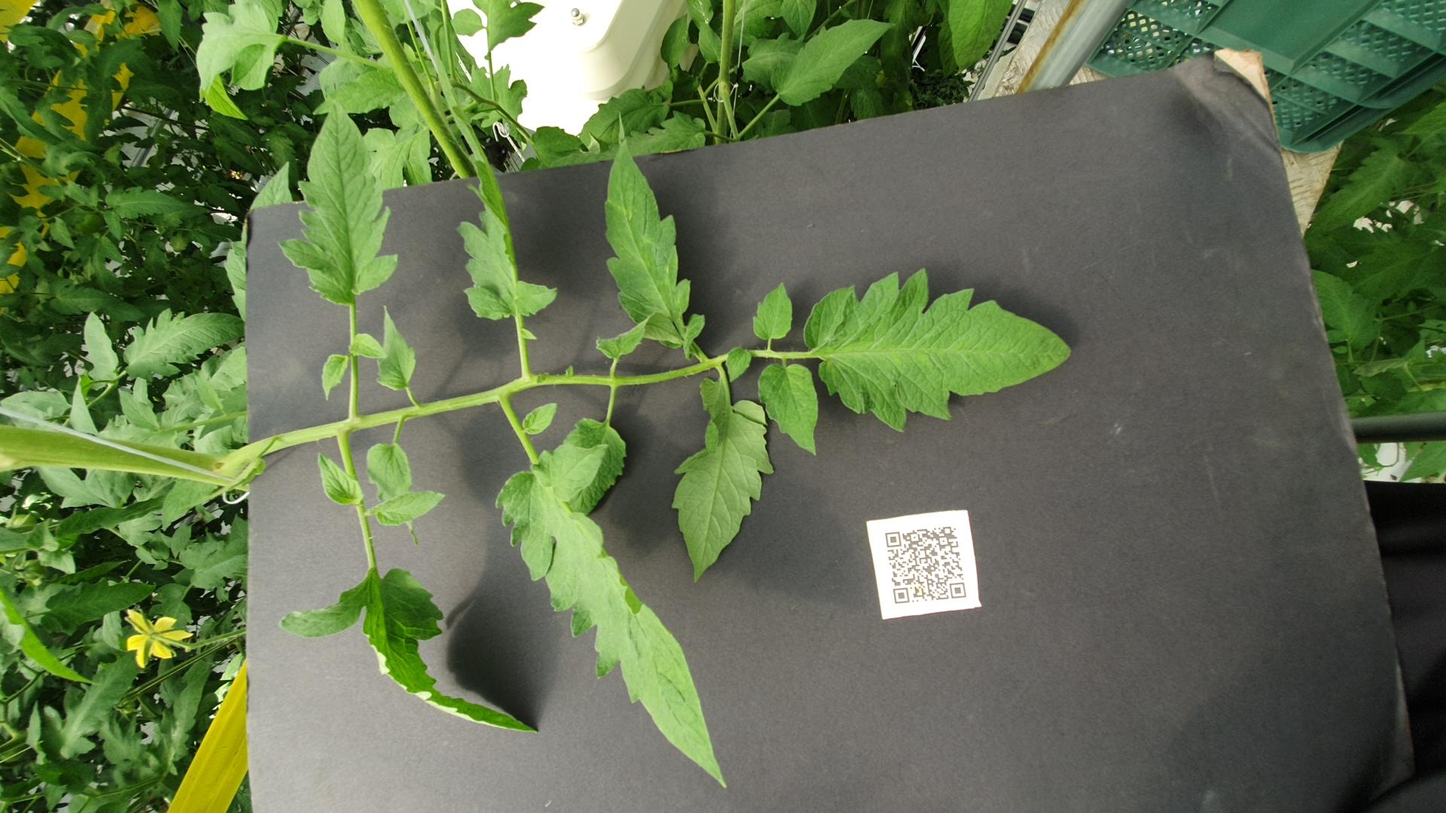Healthy: (45, 279, 657, 409), (677, 452, 970, 603), (143, 156, 424, 303), (806, 338, 1250, 398), (902, 155, 1272, 224), (875, 253, 1254, 314), (415, 378, 776, 436), (1255, 433, 1415, 504), (1230, 110, 1446, 157), (773, 70, 898, 139), (316, 22, 415, 89), (637, 426, 801, 460), (1311, 532, 1446, 569), (1239, 173, 1326, 226), (752, 211, 904, 234), (396, 107, 491, 139), (1056, 60, 1118, 106), (511, 206, 575, 250), (884, 28, 951, 69), (811, 334, 888, 367), (547, 178, 643, 204), (770, 47, 893, 67), (843, 423, 947, 446), (684, 66, 758, 89), (1328, 370, 1421, 388), (1351, 88, 1446, 104), (733, 180, 818, 197), (1382, 439, 1446, 460), (1370, 180, 1446, 195), (807, 196, 855, 217), (765, 408, 832, 423), (1003, 27, 1062, 43), (1381, 253, 1429, 271), (451, 96, 516, 108)
